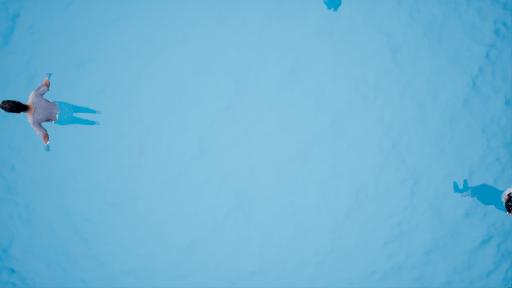person: (2, 69, 105, 147), (459, 172, 512, 213)
